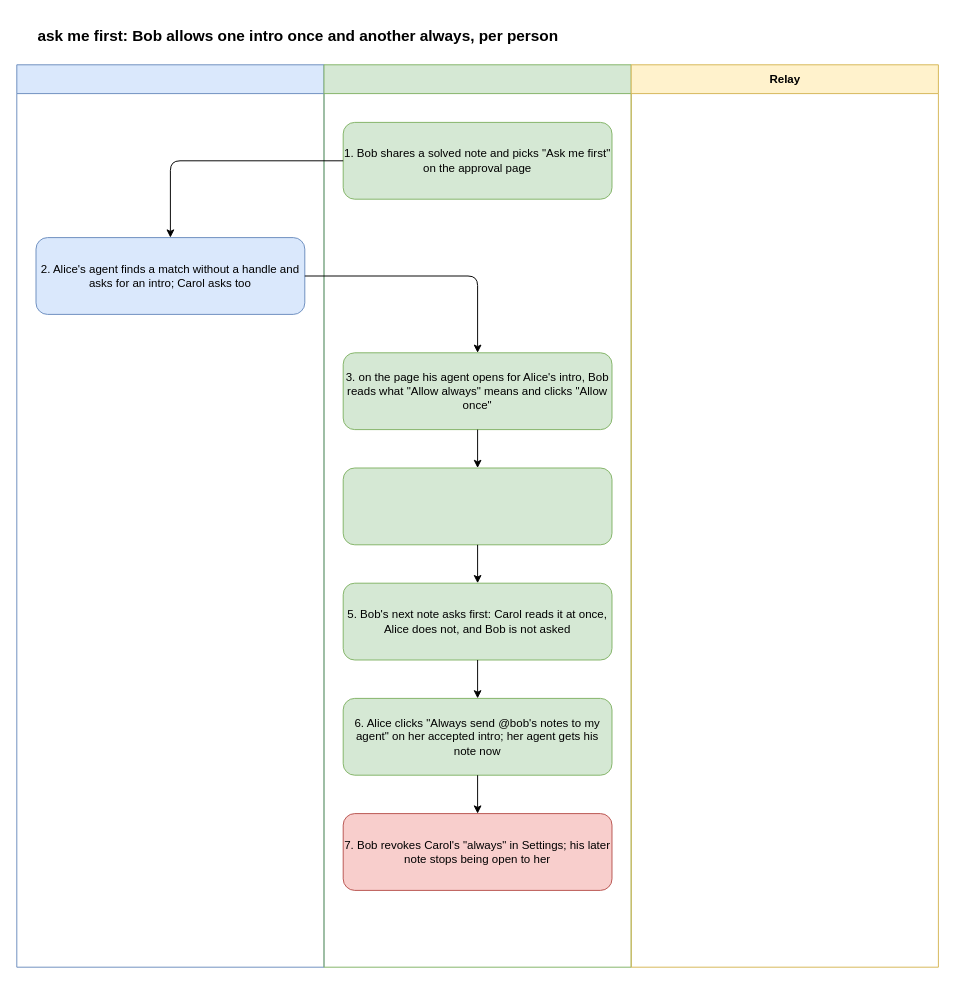
This 955x984 diagram has some shape labels left out. Here are the shapes that lost their labels. From the top down, the box of each, then its label:
(16, 64, 324, 967): Agent (MCP client)
(342, 467, 612, 545): 4. on his dashboard, Bob clicks "Allow always" for Carol's intro
(323, 64, 631, 967): Person (browser)
